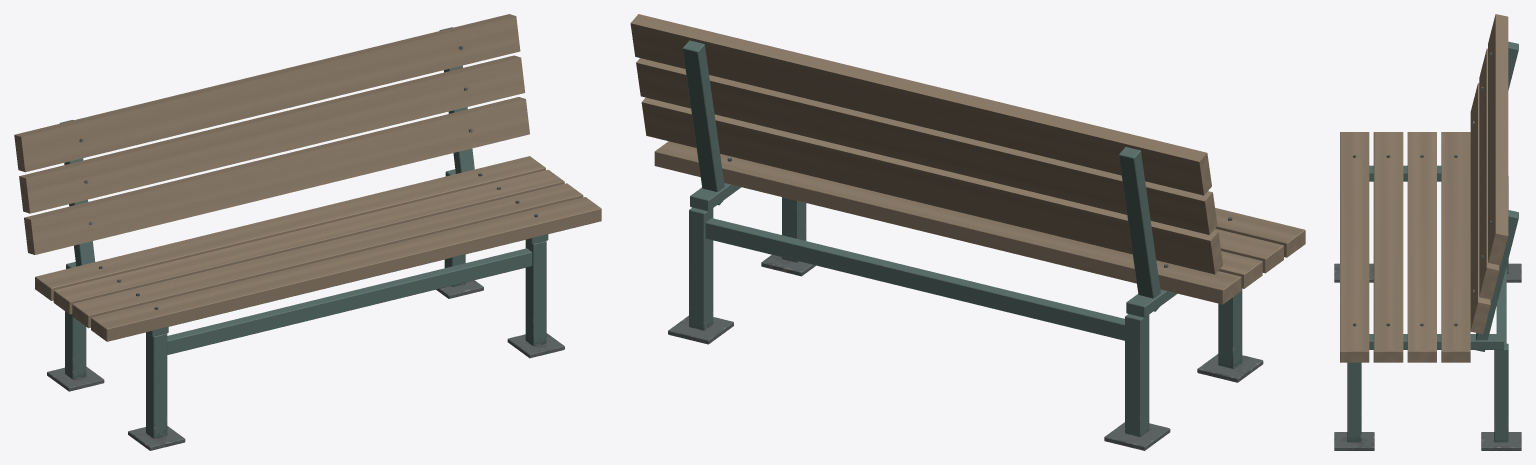
The model's file is courtyard_bench_painted.glb.
The picture shows the model from 3 angles, left to right: view 1: azimuth 30°, elevation 25°; view 2: azimuth 150°, elevation 25°; view 3: azimuth 270°, elevation 25°; orthographic projection. The views are drawn at different scales.
Parts seen in each view (by area): view 1: CourtyardBenchPainted; view 2: CourtyardBenchPainted; view 3: CourtyardBenchPainted.
Boxes of the visible parts, x1,y1,x2,y2 form: CourtyardBenchPainted: (14,14,601,450); CourtyardBenchPainted: (630,14,1305,450); CourtyardBenchPainted: (1334,14,1521,450).
Size of what is drawn, in the model's own units: 1.8 by 0.9 by 0.65.
Materials: 1 (1 with a texture image).
